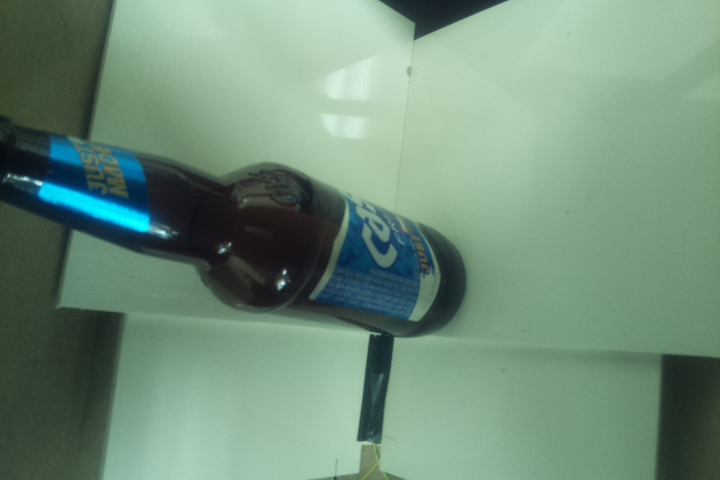makju: (1, 113, 469, 340)
